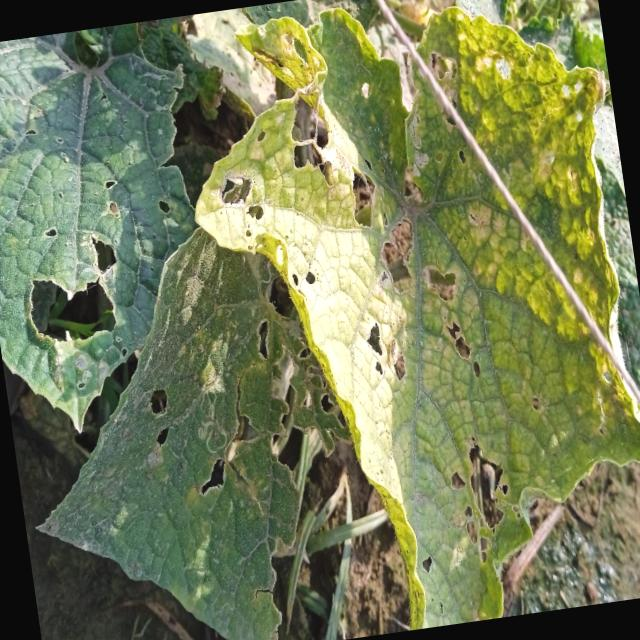cucumber_anthracnose: (338, 70, 640, 630), (0, 27, 218, 368), (128, 312, 348, 499), (191, 124, 347, 258), (234, 17, 333, 122)
